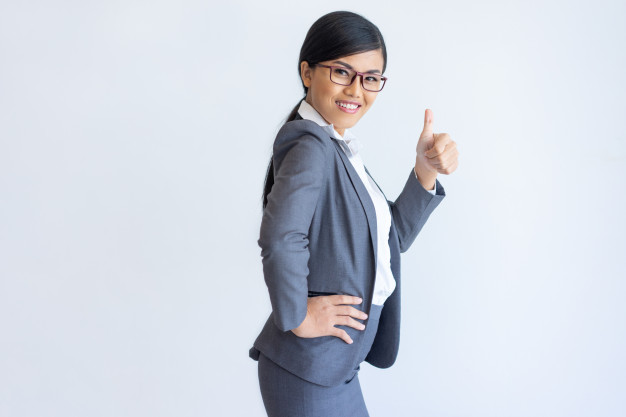thumbsup: (423, 108, 459, 175)
